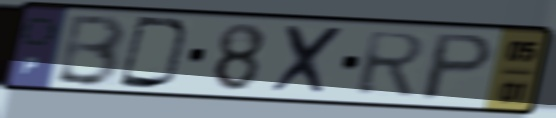8: (211, 21, 268, 94)
B: (52, 12, 130, 89)
D: (115, 13, 195, 92)
P: (416, 30, 499, 103)
R: (353, 29, 430, 98)
X: (267, 22, 349, 99)
